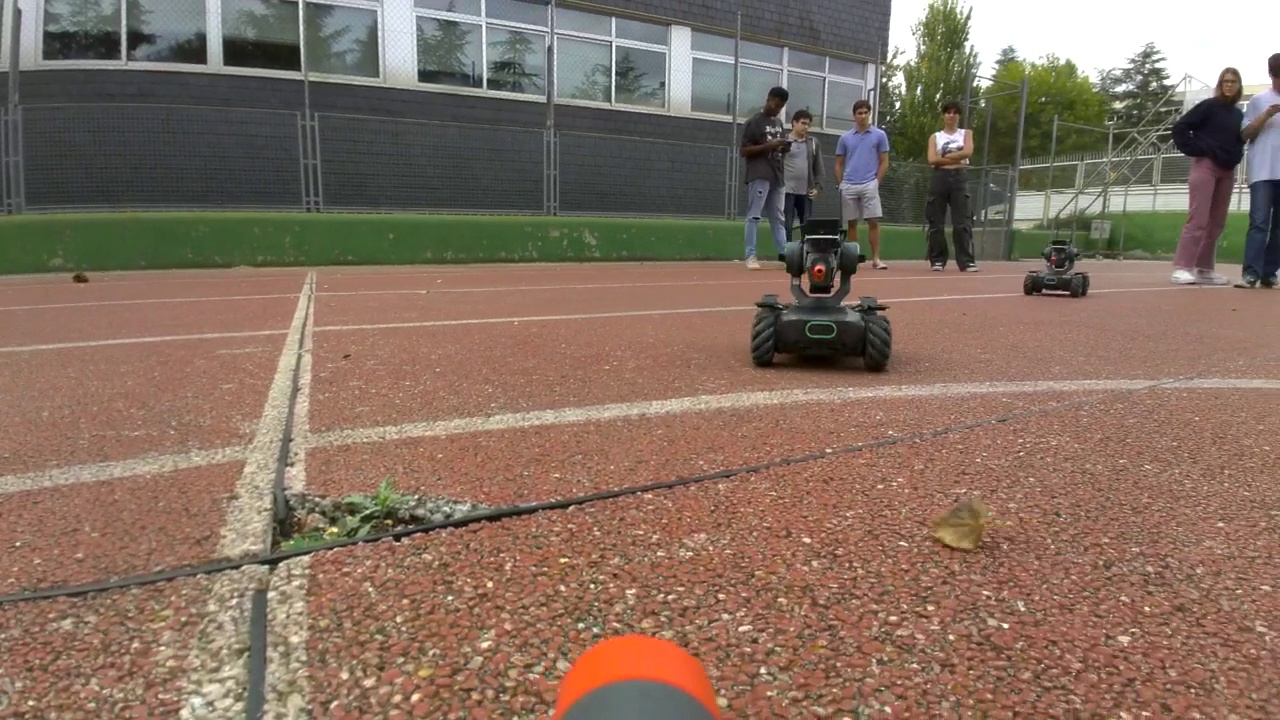robot: (752, 219, 892, 373), (1023, 240, 1088, 298)
